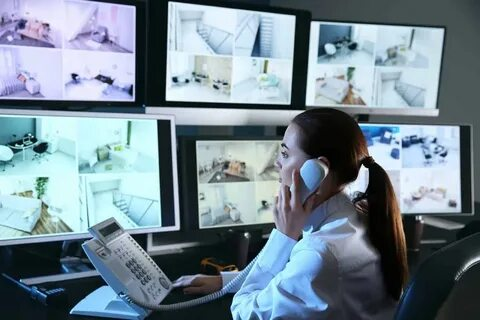awake: (229, 106, 409, 320)
